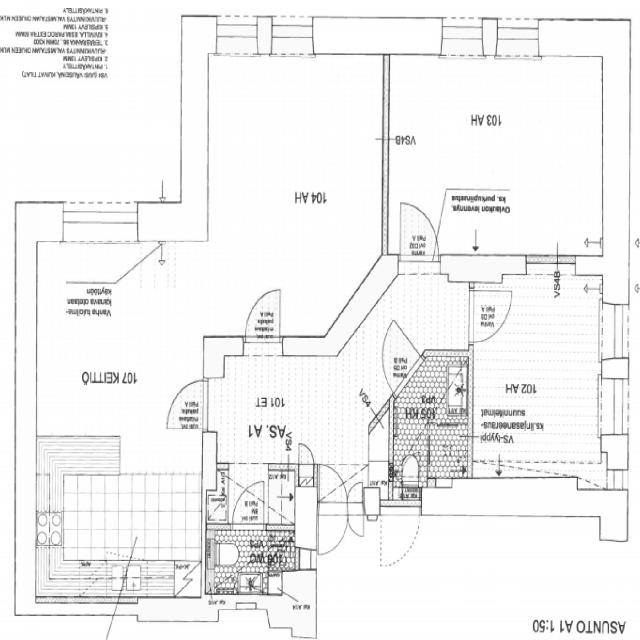door: (364, 317, 424, 397), (468, 290, 513, 343), (246, 290, 280, 358), (401, 204, 438, 262), (165, 381, 208, 428), (233, 482, 264, 532), (320, 502, 347, 550), (320, 467, 347, 515), (347, 502, 361, 535), (347, 482, 361, 515), (299, 443, 313, 470)
